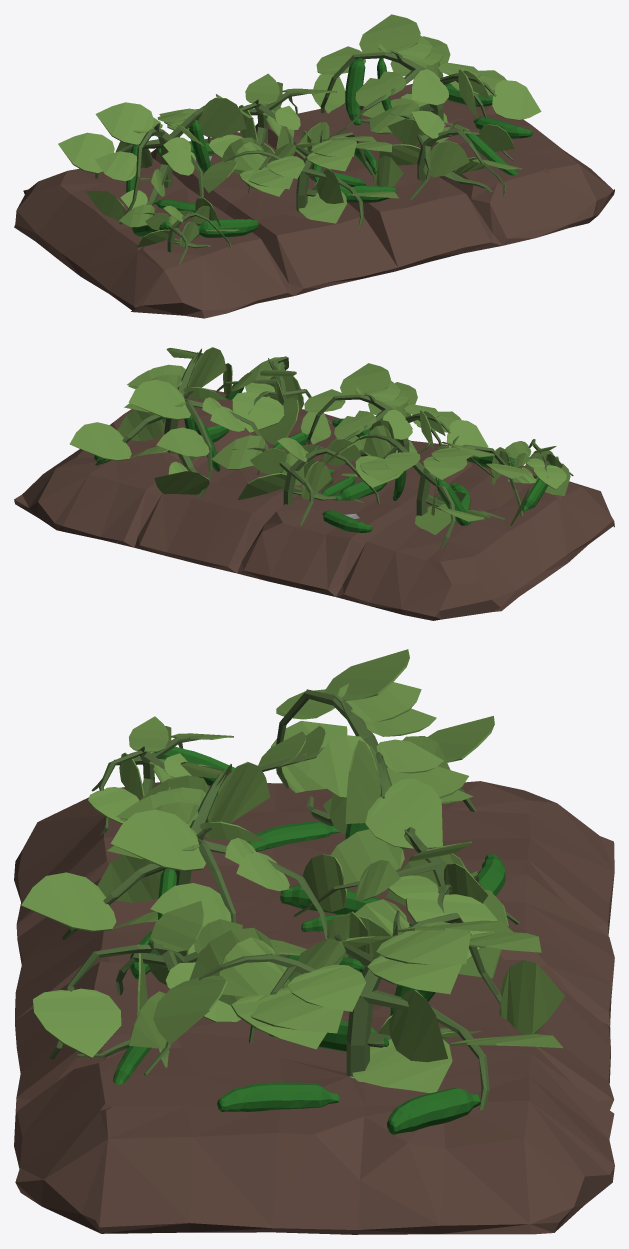
File: Cucumbers.fbx
The picture shows the model from 3 angles, top to bottom: view 1: azimuth 30°, elevation 25°; view 2: azimuth 150°, elevation 25°; view 3: azimuth 270°, elevation 25°; orthographic projection. The views are drawn at different scales.
Visible parts, largest first — view 1: Cucumber garden, Cucumbers; view 2: Cucumber garden, Cucumbers; view 3: Cucumber garden, Cucumbers.
Part boxes in pixels (bbox=[...]): Cucumber garden: bbox=[14, 14, 614, 318]; Cucumbers: bbox=[126, 57, 532, 237]; Cucumber garden: bbox=[14, 347, 614, 620]; Cucumbers: bbox=[94, 381, 550, 532]; Cucumber garden: bbox=[14, 649, 614, 1234]; Cucumbers: bbox=[113, 746, 505, 1134].
Size of the model in its own units: 9.88 by 2.47 by 6.01.
